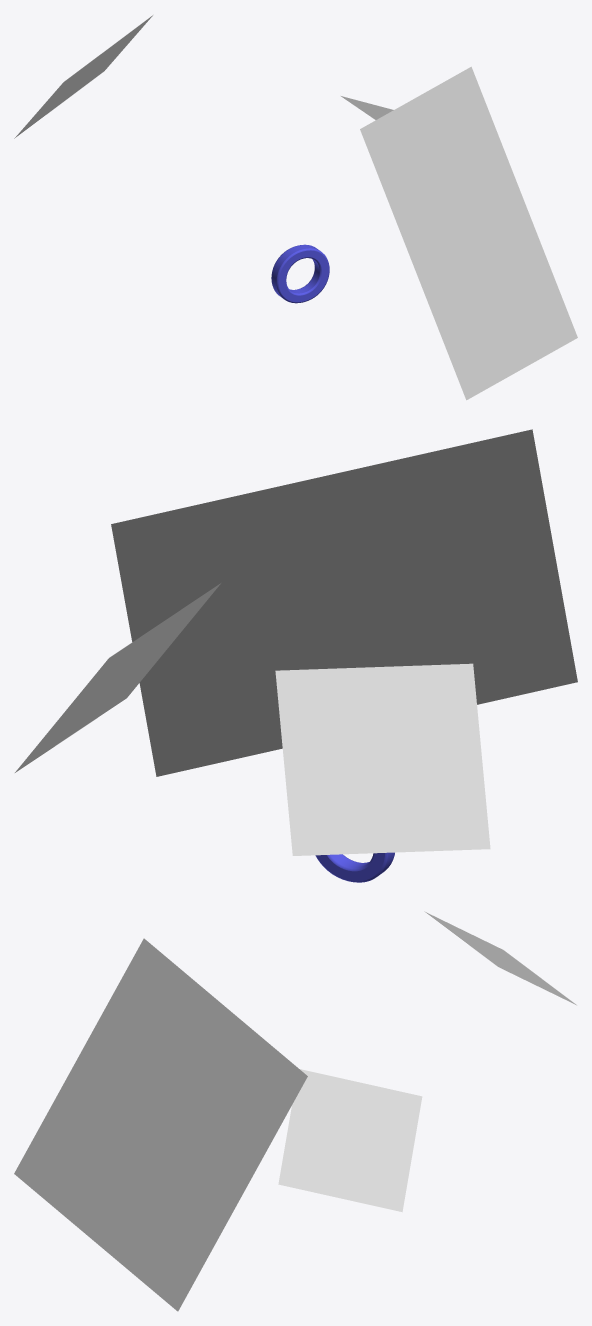
The picture shows the model from 3 angles, top to bottom: view 1: azimuth 30°, elevation 25°; view 2: azimuth 150°, elevation 25°; view 3: azimuth 270°, elevation 25°; orthographic projection. The views are drawn at different scales.
Parts seen in each view (by area): view 1: Plane.001, Text, Plane.002; view 2: Plane.001, Plane.002, Plane, Text; view 3: Plane.001, Plane, Plane.002.
Boxes of the visible parts, left/top/right/bottom form: Plane.001: left=360, top=66, right=577, bottom=400; Text: left=271, top=244, right=329, bottom=303; Plane.002: left=14, top=15, right=152, bottom=138; Plane.001: left=111, top=429, right=577, bottom=776; Plane.002: left=275, top=663, right=490, bottom=855; Plane: left=15, top=583, right=220, bottom=772; Text: left=315, top=852, right=394, bottom=882; Plane.001: left=14, top=938, right=307, bottom=1311; Plane: left=278, top=1069, right=422, bottom=1212; Plane.002: left=424, top=911, right=576, bottom=1005.
Size of the model in its own units: 2861 by 1934 by 3737.
